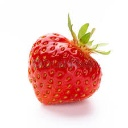strawberry: (26, 23, 109, 105)
